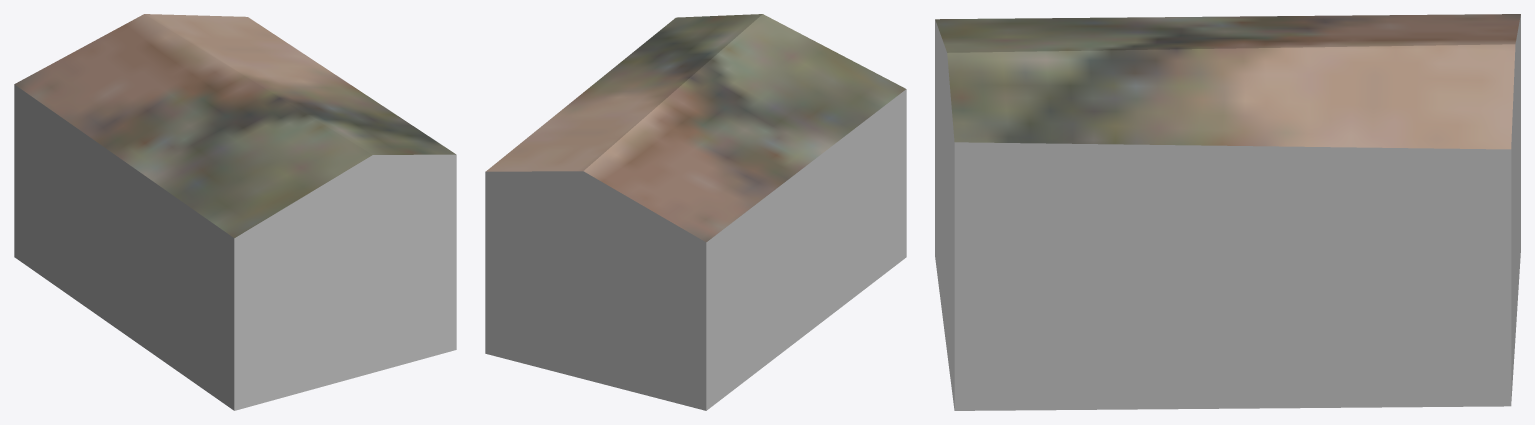
File: DEBW_0010007Tx6k.gltf
3 views of the same model, side by side, from view 1: azimuth 30°, elevation 25°; view 2: azimuth 150°, elevation 25°; view 3: azimuth 270°, elevation 25° (orthographic). The views are drawn at different scales.
Parts seen in each view (by area): view 1: Z_UP; view 2: Z_UP; view 3: Z_UP.
Part boxes in pixels (bbox=[...]): Z_UP: bbox=[14, 14, 456, 410]; Z_UP: bbox=[485, 14, 906, 410]; Z_UP: bbox=[935, 14, 1520, 410].
Bounding box in the file's own units: 3.49 × 3.07 × 5.43.
2 materials, 1 textured.
